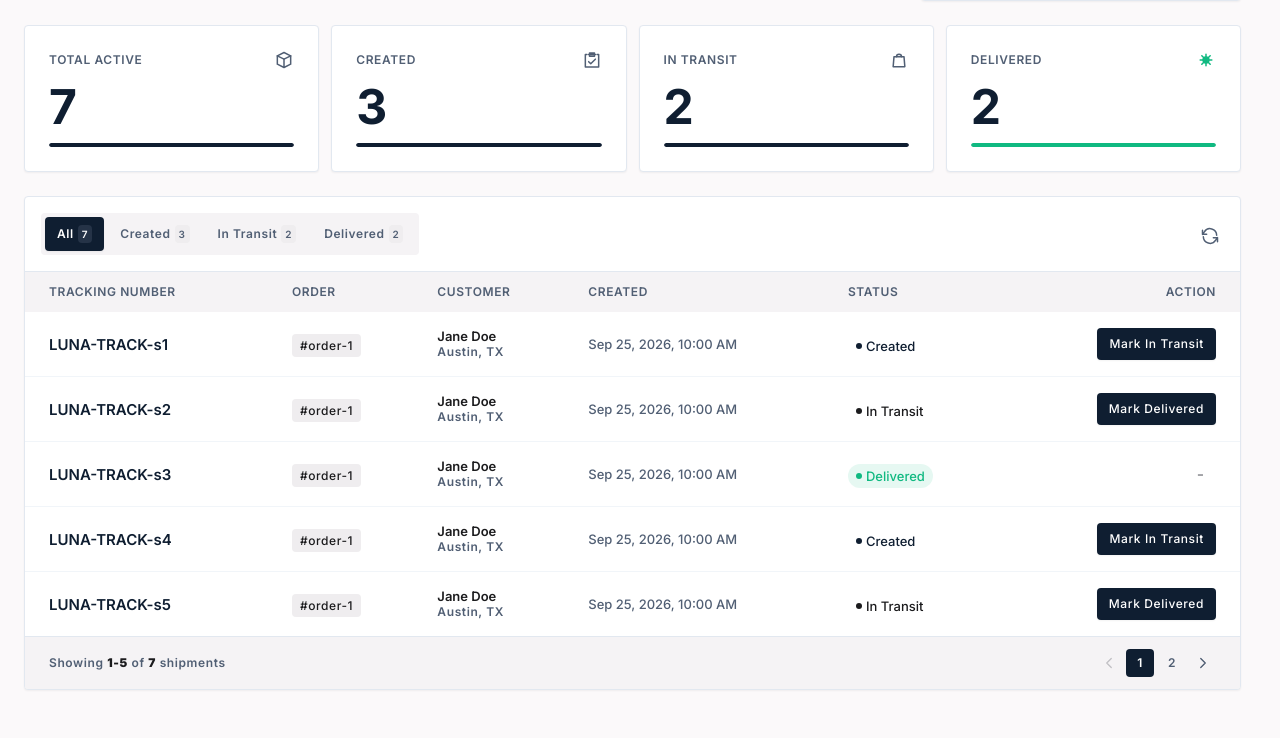
ShipmentQueue › renders every shipment status and paginates the queue
(page scrolled)
Expected: the link "LUNA-TRACK-s1" is shown, x1=49 y1=334 x2=168 y2=354
Expected: the text "In Transit" in the row of "Total Active" is shown, x1=664 y1=52 x2=738 y2=67
Click the button named "Next page" at (1203, 663), box x1=1190 y1=650 x2=1216 y2=676
(page scrolled)
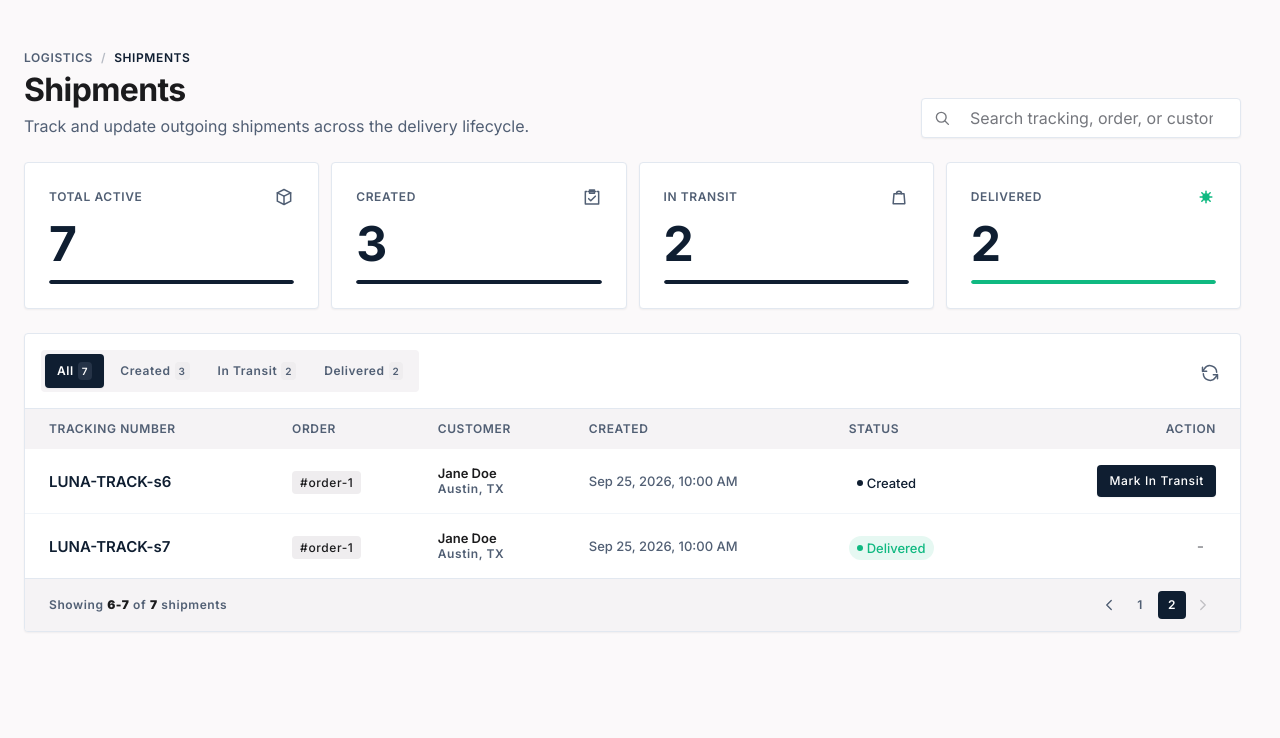
Now the link "LUNA-TRACK-s7" is shown, box x1=49 y1=536 x2=170 y2=556
Now the link "LUNA-TRACK-s1" is gone
Now the text "Showing 6-7 of 7 shipments" is shown, box x1=49 y1=597 x2=227 y2=613
